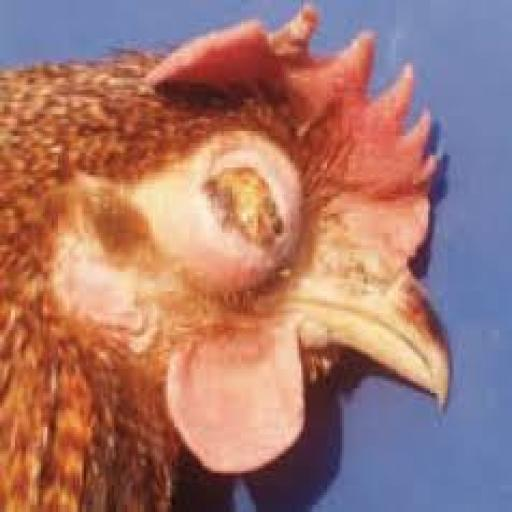disease: (155, 100, 328, 282), (316, 208, 394, 336)
